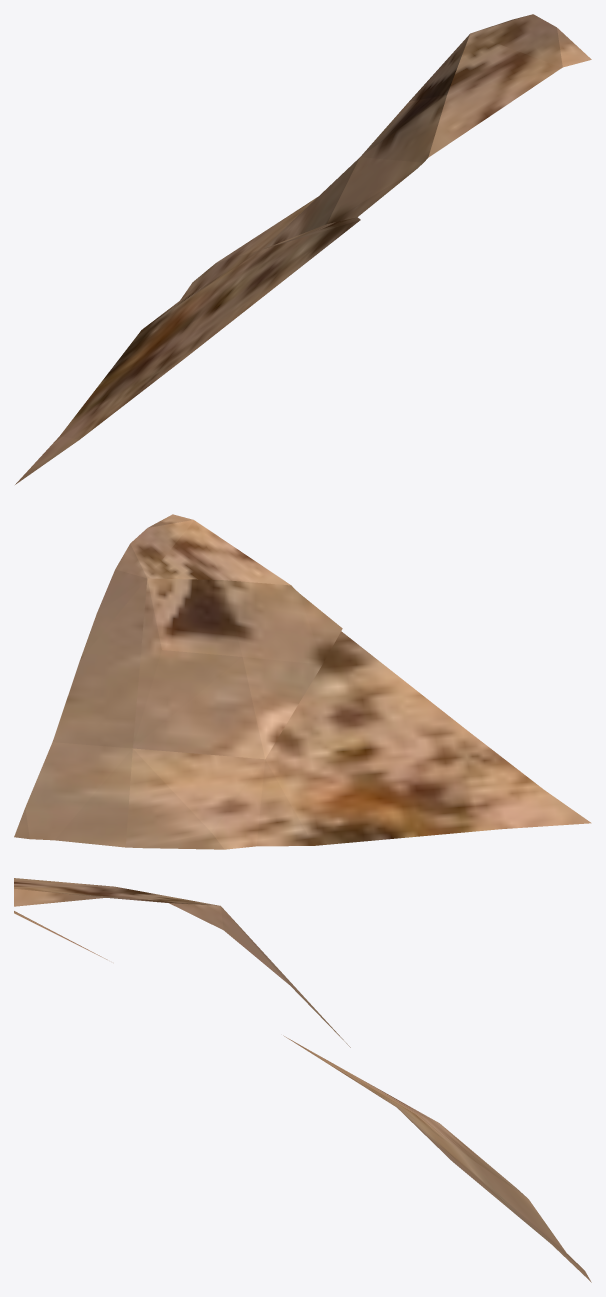
3 renders of one model, top to bottom at view 1: azimuth 30°, elevation 25°; view 2: azimuth 150°, elevation 25°; view 3: azimuth 270°, elevation 25°, orthographic. The views are drawn at different scales.
Size of the model in its own units: 0.1725 by 0.0832 by 0.1131.
Materials: 1 (1 with a texture image).
